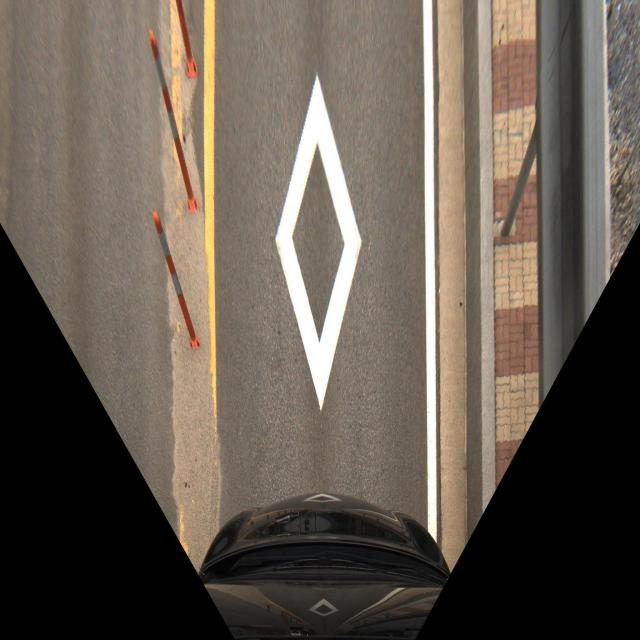diamond: (201, 48, 441, 411)
